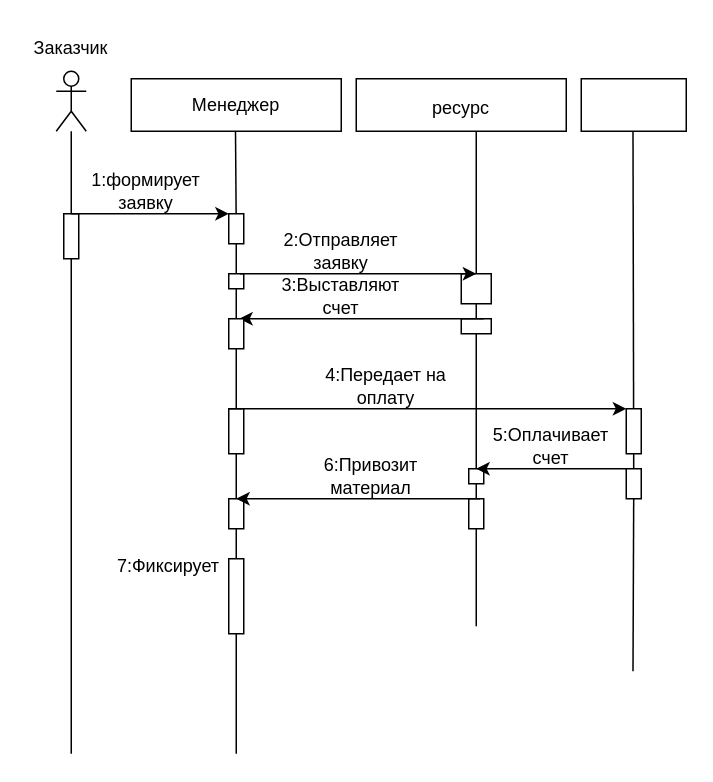
The diagram is 713 pixels wide and 782 high, and some of its shapes have lost their labels. The shapes that lost their labels are listed below. From the top down, each one's centre as x and y in pixels, then its label:
At pixel 70 100: "Actor".
At pixel 633 104: "Бухгалтер".
